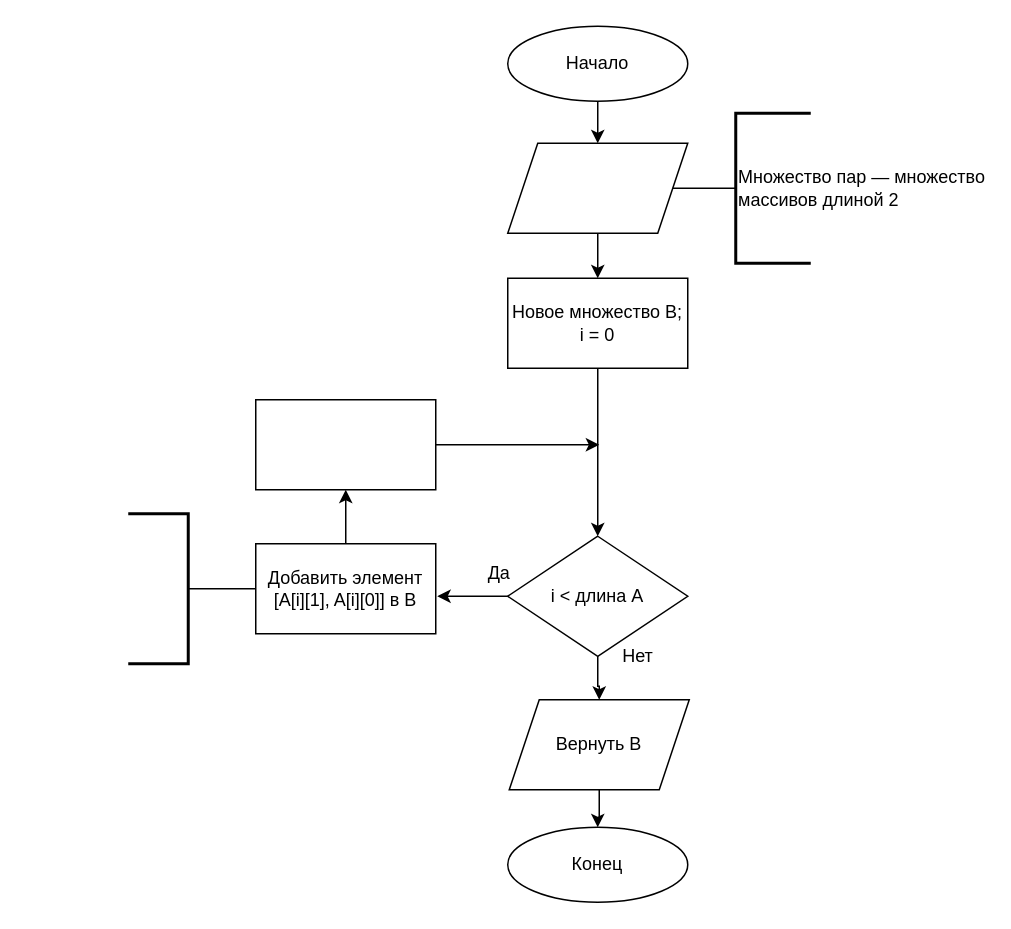
Image size: 1011x929. Some labels were removed from this diagram. Each missing label, with the centre of its shape:
"[X, Y] - пара (массив длиной 2)" goes at (x=157, y=588).
"i++" goes at (x=345, y=444).
"Ввод множества пар А" goes at (x=597, y=187).
